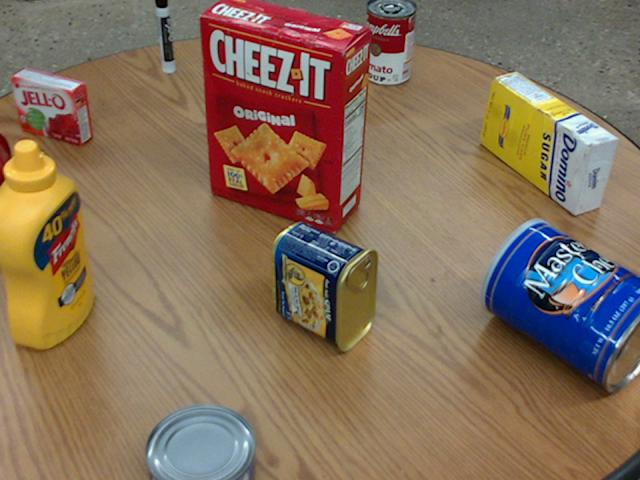cracker_box: (200, 0, 371, 228)
gelatin_box: (16, 68, 95, 145)
large_marker: (157, 0, 176, 72)
master_chef_can: (479, 218, 639, 390)
mug: (0, 130, 27, 227)
mustard_bottle: (0, 139, 95, 348)
potted_meat_can: (270, 221, 378, 352)
sugar_box: (481, 72, 621, 215)
tomato_soup_can: (365, 0, 418, 85)
tuna_fish_can: (143, 403, 254, 479)
